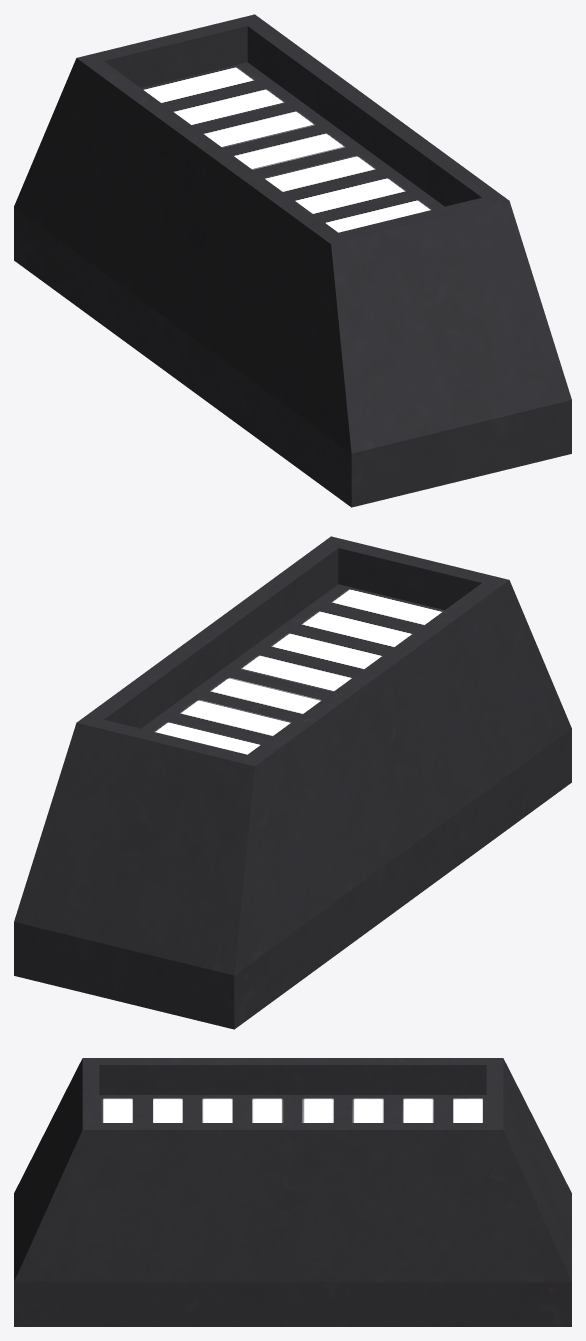
File: box_addon_1.fbx
3 views of the same model, one above another, from view 1: azimuth 30°, elevation 25°; view 2: azimuth 150°, elevation 25°; view 3: azimuth 270°, elevation 25° (orthographic). The views are drawn at different scales.
Visible parts, largest first — view 1: box_addon_1; view 2: box_addon_1; view 3: box_addon_1.
Boxes of the visible parts, bbox=[...] form: box_addon_1: bbox=[14, 14, 571, 507]; box_addon_1: bbox=[14, 536, 571, 1029]; box_addon_1: bbox=[14, 1058, 571, 1326].
Bounding box in the file's own units: 2.24 × 2.21 × 5.94.
